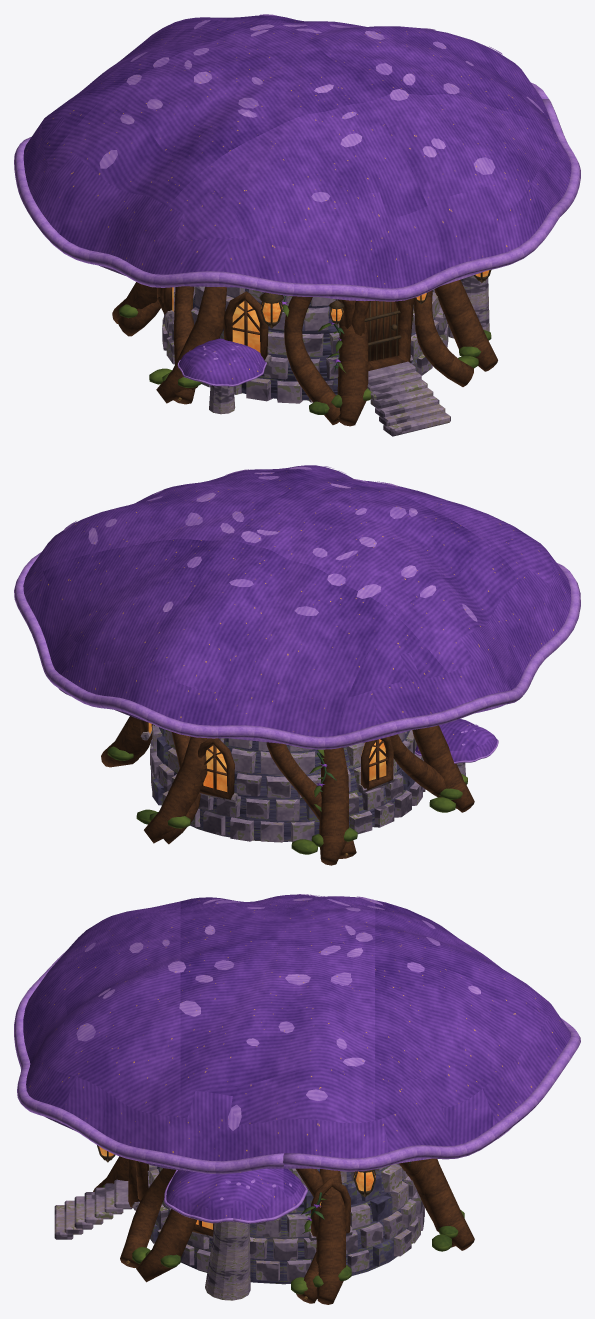
File: mushroom_cottage.glb
3 renders of one model, top to bottom at view 1: azimuth 30°, elevation 25°; view 2: azimuth 150°, elevation 25°; view 3: azimuth 270°, elevation 25°, orthographic. The views are drawn at different scales.
Visible parts, largest first — view 1: mushroom_cottage_cap, mushroom_cottage_wood, mushroom_cottage_cap_light, mushroom_cottage_stone_light, mushroom_cottage_moss, mushroom_cottage_metal, mushroom_cottage_stone, mushroom_cottage_window; view 2: mushroom_cottage_cap, mushroom_cottage_wood, mushroom_cottage_cap_light, mushroom_cottage_stone_light, mushroom_cottage_stone, mushroom_cottage_moss, mushroom_cottage_window; view 3: mushroom_cottage_cap, mushroom_cottage_cap_light, mushroom_cottage_stone_light, mushroom_cottage_wood, mushroom_cottage_stone, mushroom_cottage_moss.
Part boxes in pixels (left/top/right/bottom): mushroom_cottage_cap: left=23, top=15, right=571, bottom=384; mushroom_cottage_wood: left=112, top=280, right=497, bottom=426; mushroom_cottage_cap_light: left=14, top=14, right=580, bottom=386; mushroom_cottage_stone_light: left=162, top=275, right=489, bottom=436; mushroom_cottage_moss: left=119, top=304, right=491, bottom=414; mushroom_cottage_metal: left=259, top=269, right=491, bottom=361; mushroom_cottage_stone: left=193, top=288, right=440, bottom=400; mushroom_cottage_window: left=172, top=270, right=489, bottom=352; mushroom_cottage_cap: left=23, top=465, right=571, bottom=761; mushroom_cottage_wood: left=101, top=716, right=474, bottom=865; mushroom_cottage_cap_light: left=14, top=466, right=580, bottom=763; mushroom_cottage_stone_light: left=140, top=724, right=465, bottom=842; mushroom_cottage_stone: left=152, top=727, right=415, bottom=841; mushroom_cottage_moss: left=107, top=725, right=467, bottom=854; mushroom_cottage_window: left=148, top=723, right=386, bottom=791; mushroom_cottage_cap: left=23, top=894, right=570, bottom=1220; mushroom_cottage_cap_light: left=14, top=894, right=580, bottom=1223; mushroom_cottage_stone_light: left=54, top=1163, right=424, bottom=1300; mushroom_cottage_wood: left=93, top=1156, right=474, bottom=1304; mushroom_cottage_stone: left=150, top=1163, right=416, bottom=1284; mushroom_cottage_moss: left=102, top=1185, right=464, bottom=1294.
Bounding box in the file's own units: 15.51 × 8.9 × 15.43.
12 materials, 12 textured.
